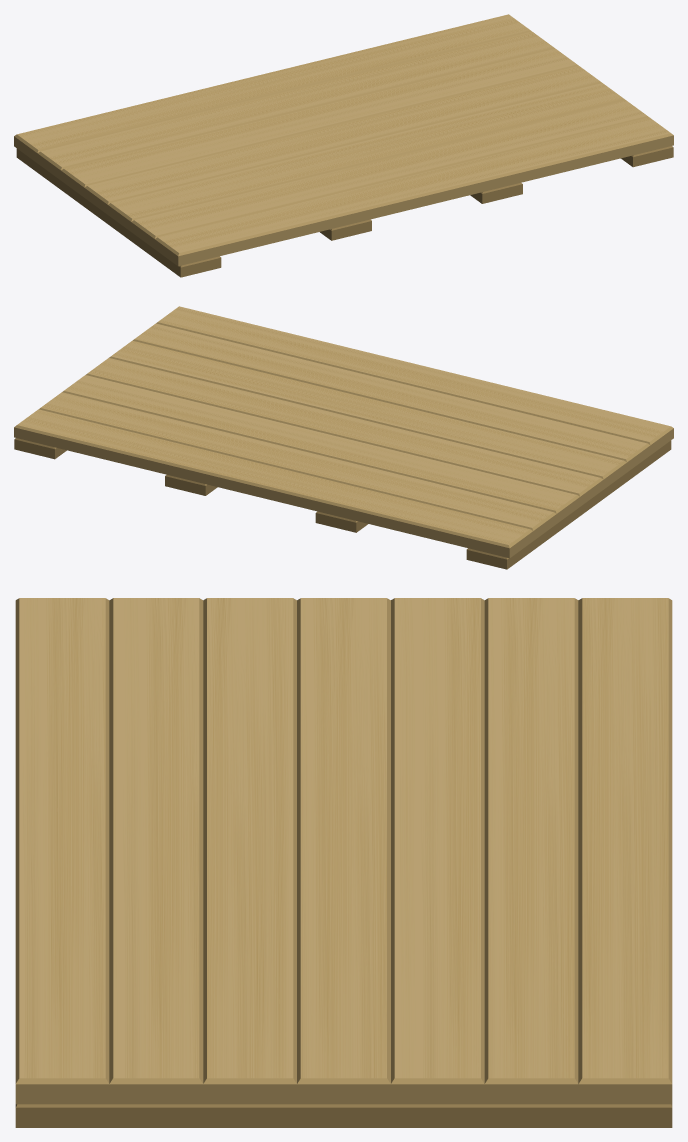
File: wood_stand_0517.fbx
3 renders of one model, top to bottom at view 1: azimuth 30°, elevation 25°; view 2: azimuth 150°, elevation 25°; view 3: azimuth 270°, elevation 25°, orthographic. The views are drawn at different scales.
Visible parts, largest first — view 1: Object002; view 2: Object002; view 3: Object002.
Part boxes in pixels (bbox=[...]): Object002: bbox=[14, 14, 673, 277]; Object002: bbox=[14, 306, 673, 569]; Object002: bbox=[15, 598, 672, 1127].
Size of the model in its own units: 98.67 by 4.57 by 56.59.
1 material, 1 textured.
